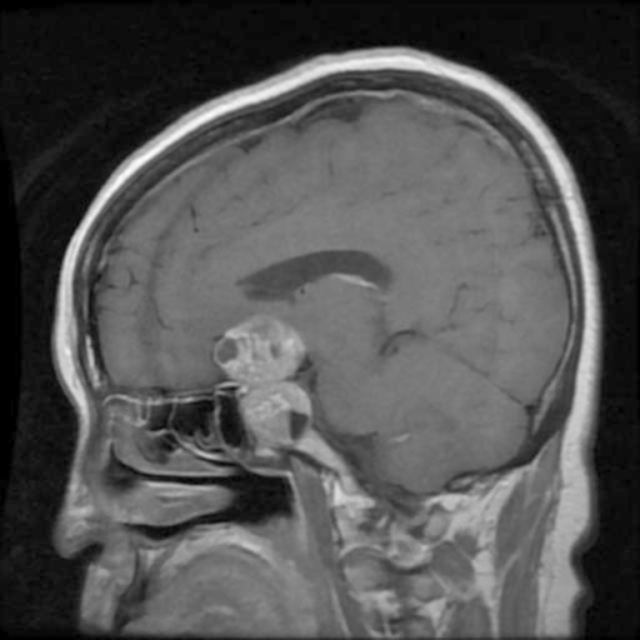no tumor: (230, 315, 312, 447)
